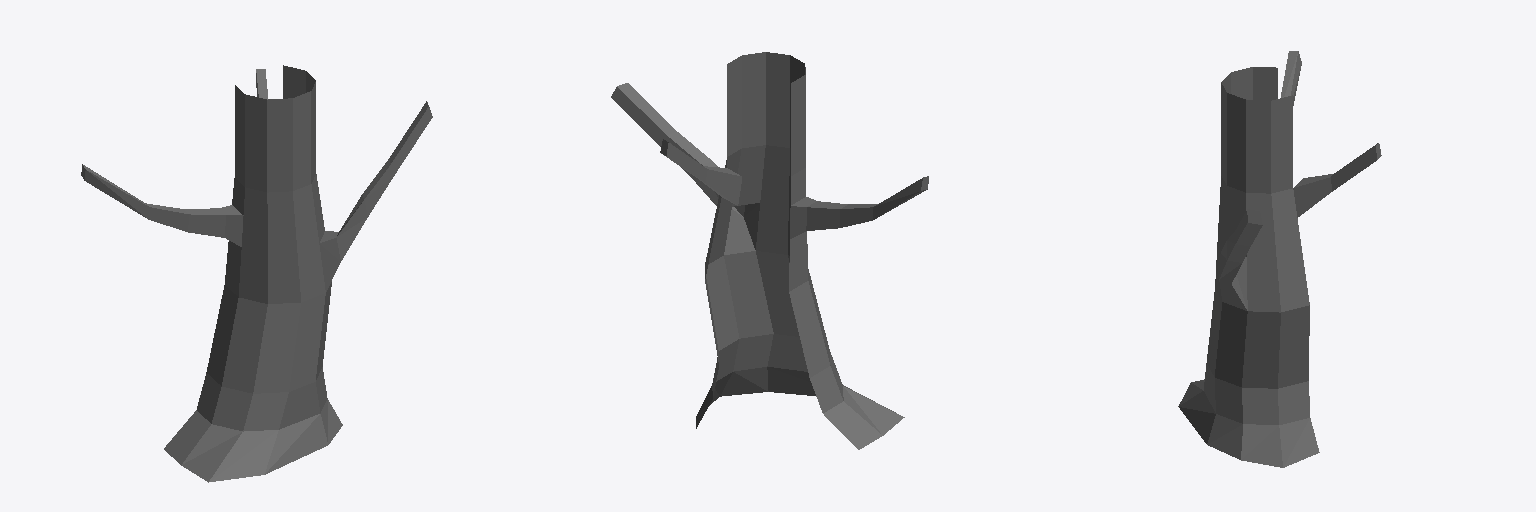
File: cerisier03.obj
3 views of the same model, side by side, from view 1: azimuth 30°, elevation 25°; view 2: azimuth 150°, elevation 25°; view 3: azimuth 270°, elevation 25° (orthographic).
Size of the model in its own units: 2.04 by 2.09 by 1.08.